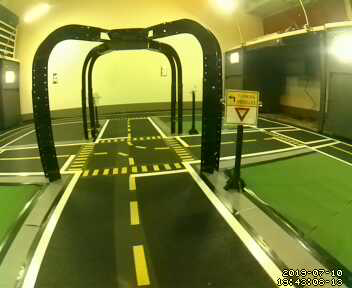Turn Yield: (223, 88, 258, 124)
